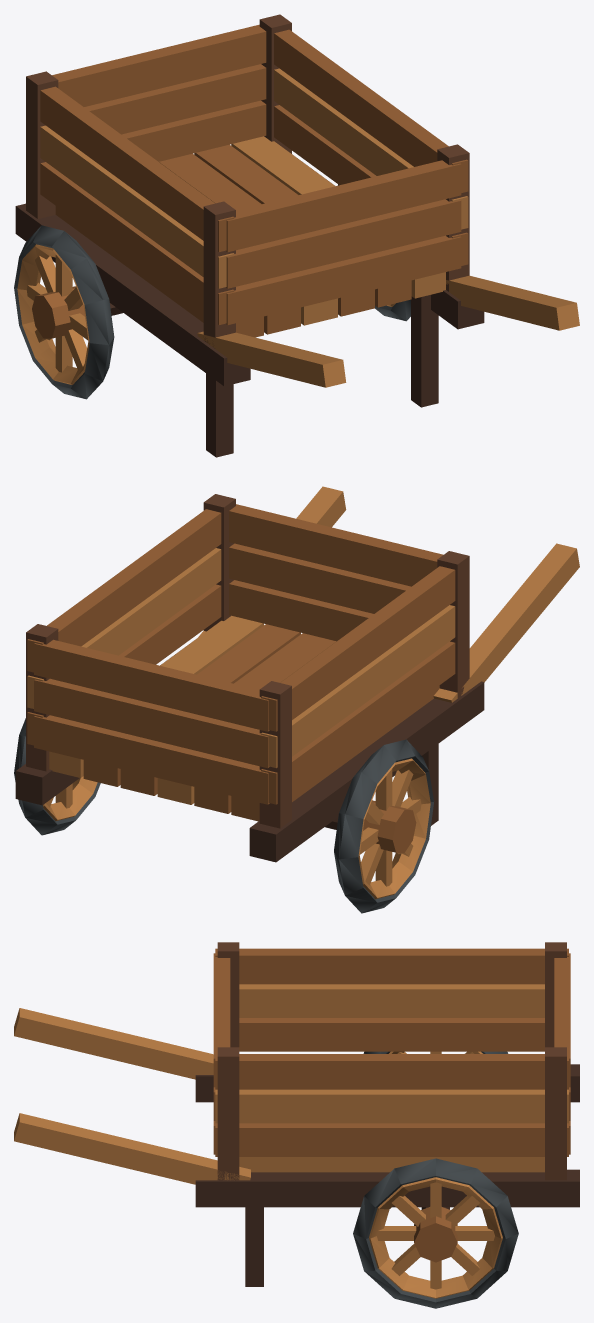
File: 14_handcart.fbx
The picture shows the model from 3 angles, top to bottom: view 1: azimuth 30°, elevation 25°; view 2: azimuth 150°, elevation 25°; view 3: azimuth 270°, elevation 25°; orthographic projection. The views are drawn at different scales.
Visible parts, largest first — view 1: 14_handcart; view 2: 14_handcart; view 3: 14_handcart.
Boxes of the visible parts, x1,y1,x2,y2 form: 14_handcart: (14, 14, 579, 457); 14_handcart: (14, 486, 579, 913); 14_handcart: (14, 942, 579, 1308).
Bounding box in the file's own units: 1.76 × 1.2 × 2.59.
Materials: 1 (1 with a texture image).
